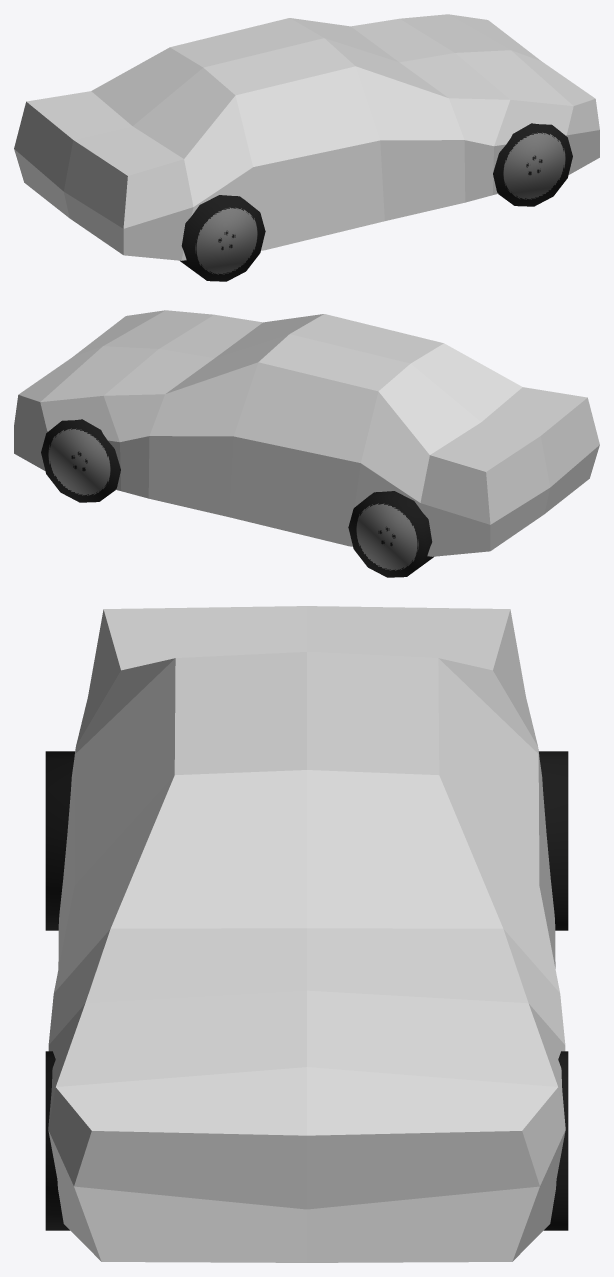
Rendered from car (1).fbx.
3 renders of one model, top to bottom at view 1: azimuth 30°, elevation 25°; view 2: azimuth 150°, elevation 25°; view 3: azimuth 270°, elevation 25°, orthographic. The views are drawn at different scales.
Parts seen in each view (by area): view 1: Car, Wheels.Back, Wheels.Front; view 2: Car, Wheels.Back, Wheels.Front; view 3: Car, Wheels.Back, Wheels.Front.
Boxes of the visible parts, x1=… form: Car: x1=14, y1=14, x2=599, y2=260; Wheels.Back: x1=180, y1=195, x2=265, y2=281; Wheels.Front: x1=493, y1=123, x2=572, y2=206; Car: x1=14, y1=310, x2=599, y2=556; Wheels.Back: x1=348, y1=491, x2=433, y2=577; Wheels.Front: x1=41, y1=419, x2=120, y2=502; Car: x1=48, y1=606, x2=565, y2=1262; Wheels.Back: x1=45, y1=751, x2=568, y2=930; Wheels.Front: x1=45, y1=1051, x2=568, y2=1230.
Size of the model in its own units: 460 by 142 by 215.
2 materials, 1 textured.
